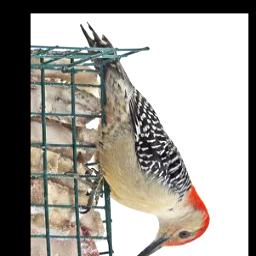Woodpecker: (78, 20, 210, 256)
